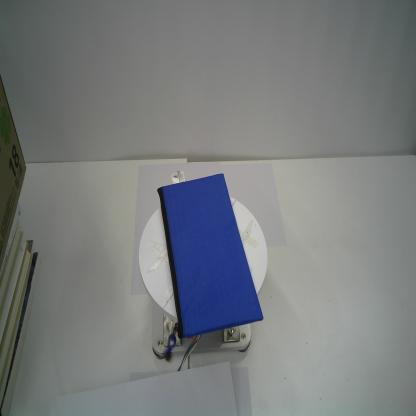Stationery: (156, 169, 266, 366)
